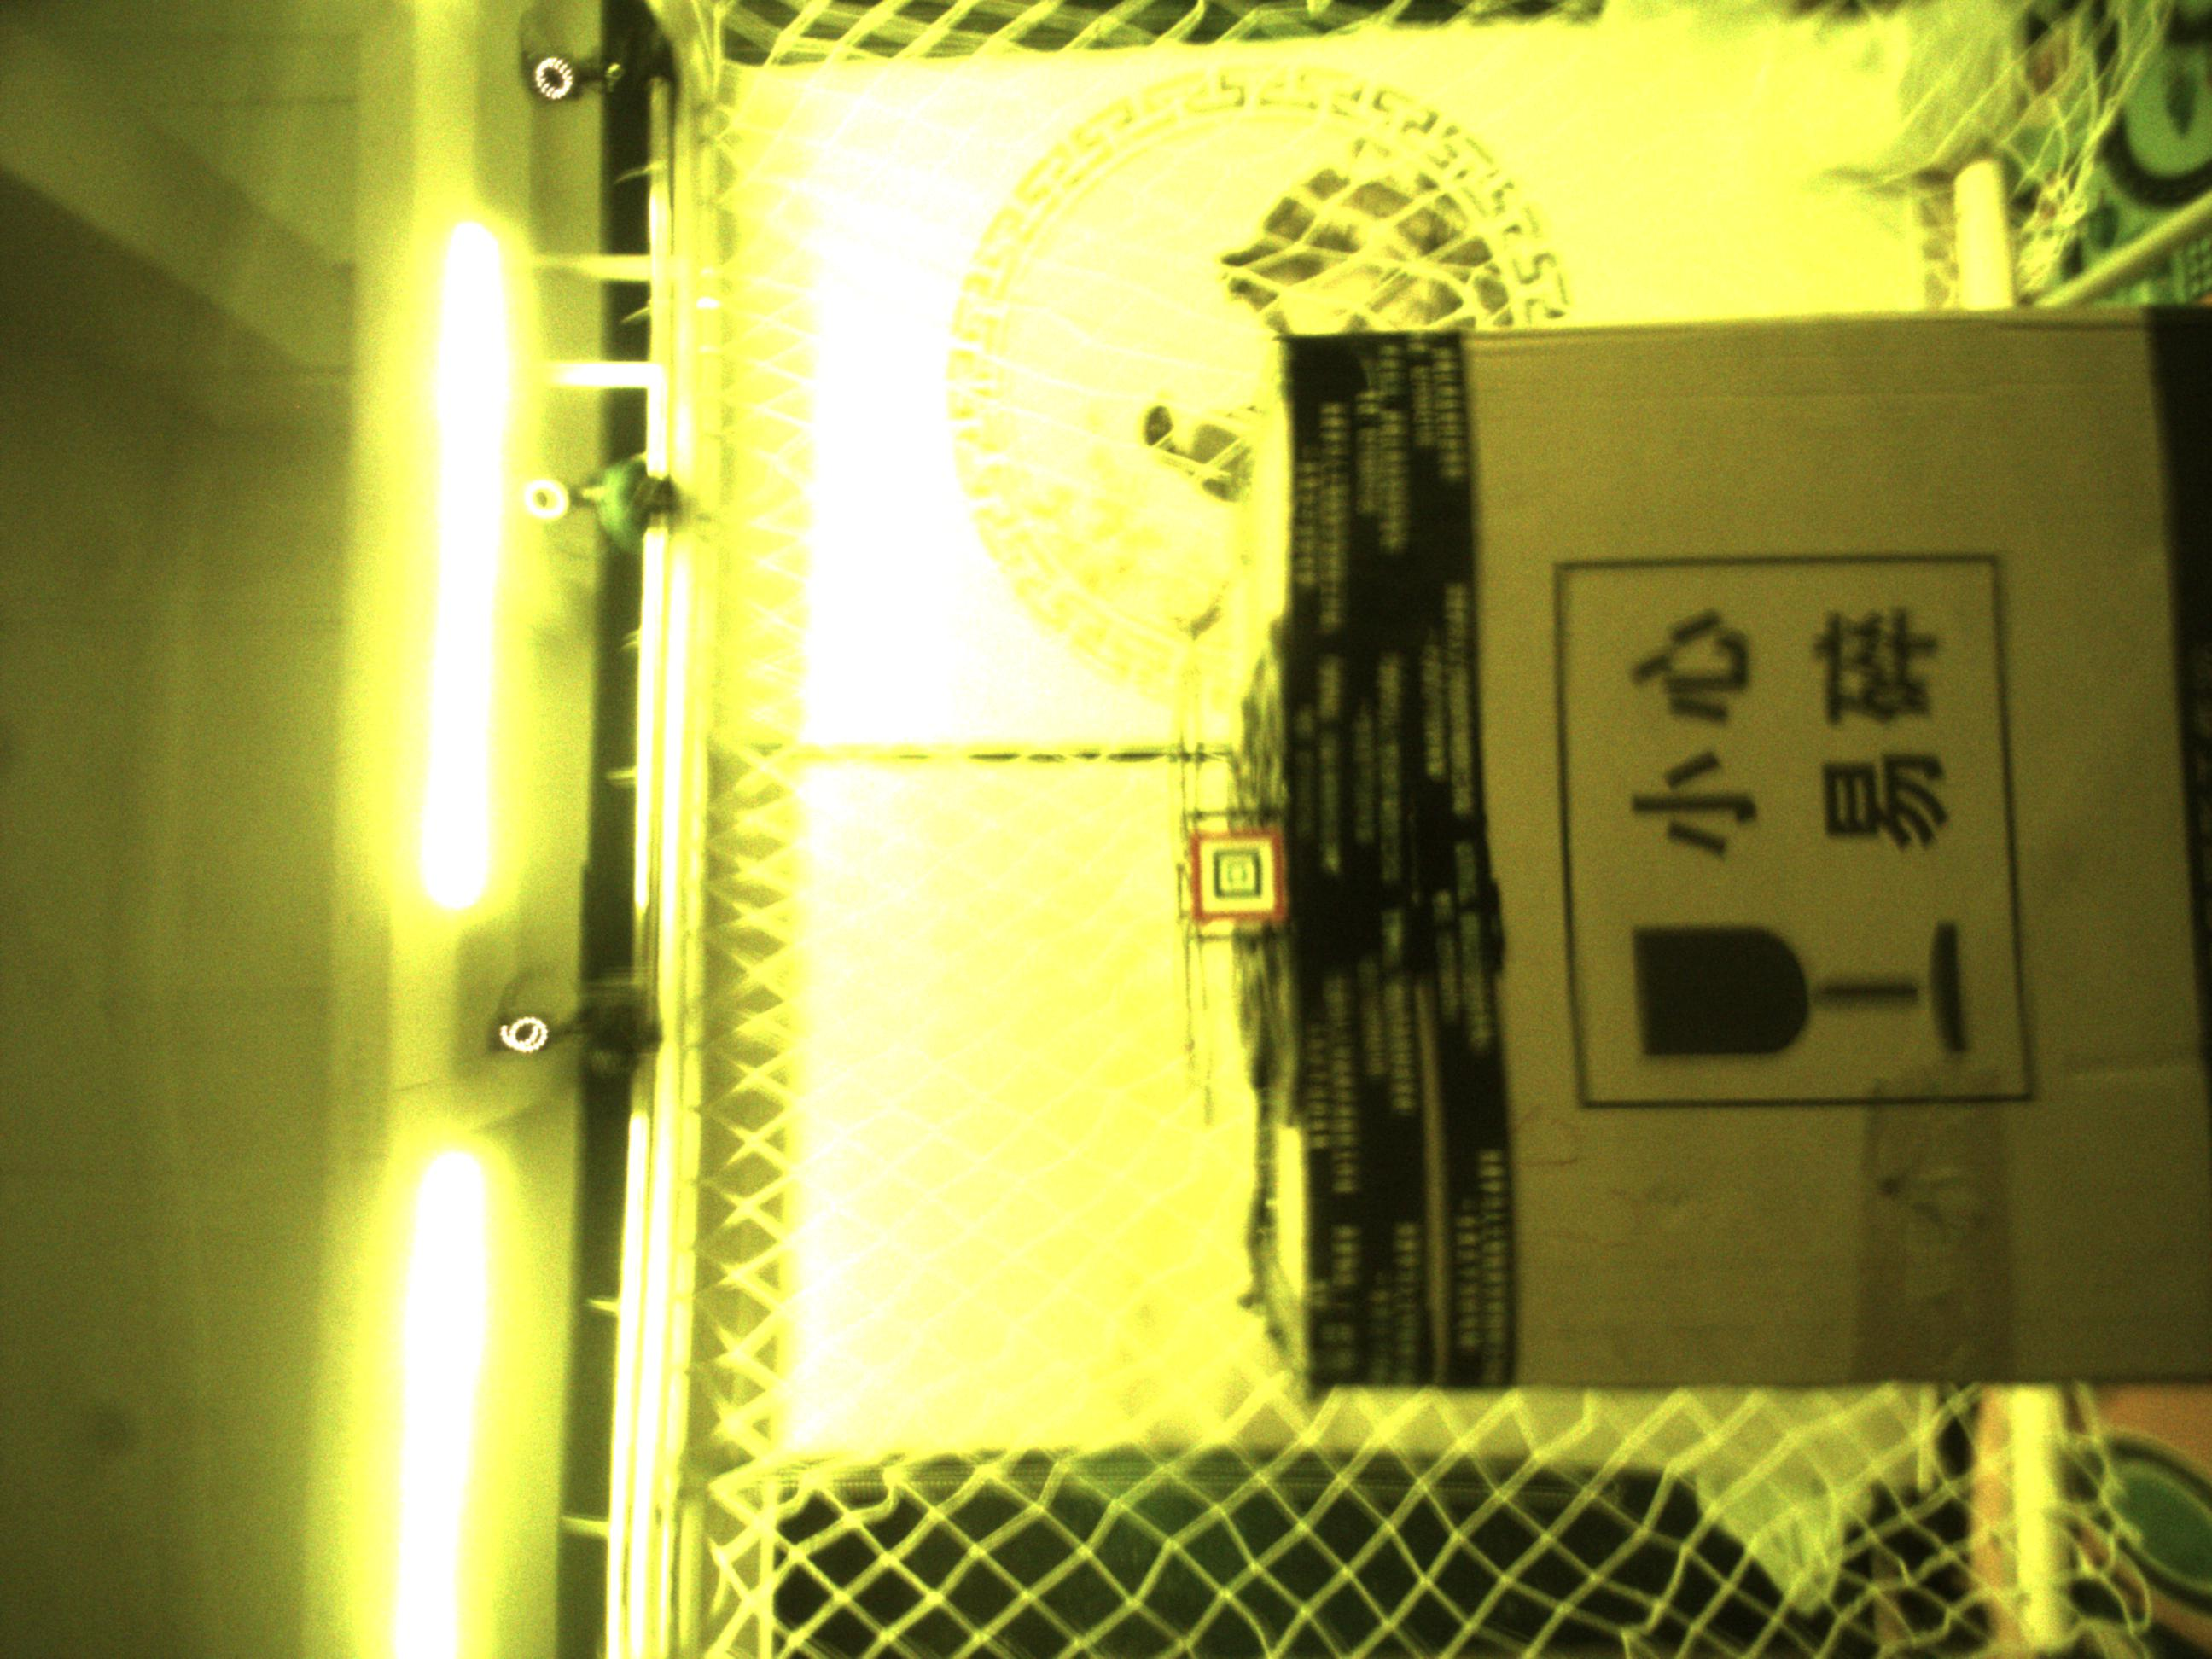outline: (1190, 831, 1287, 922)
